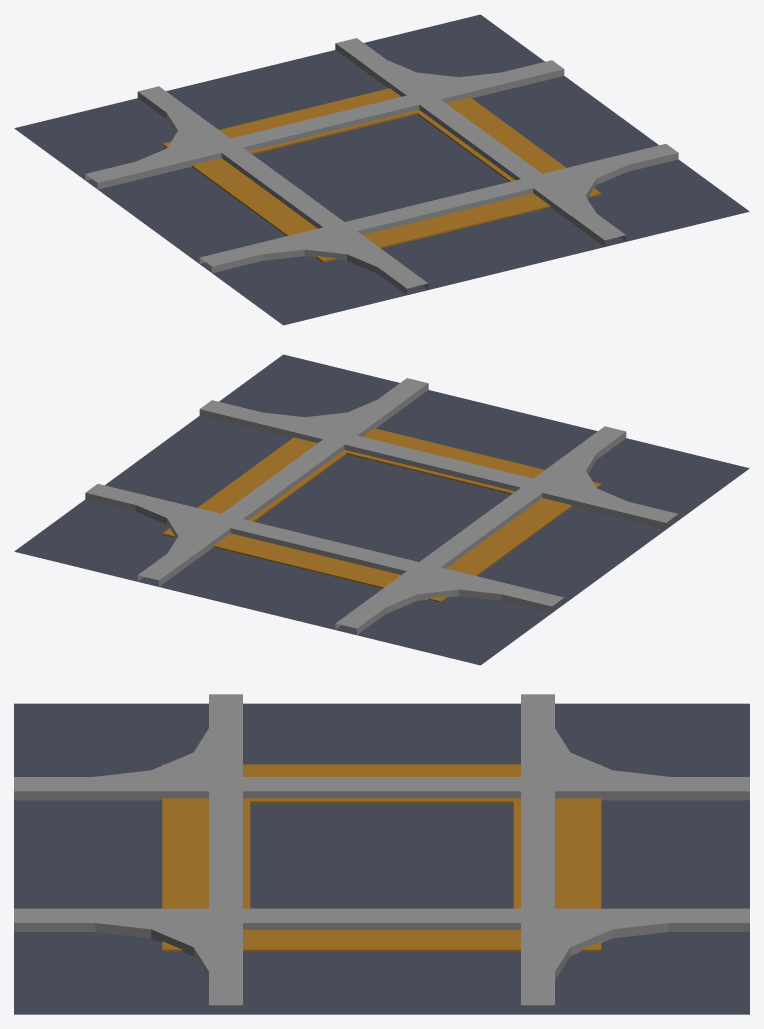
The model's file is Map-Rail-cross.fbx.
3 views of the same model, one above another, from view 1: azimuth 30°, elevation 25°; view 2: azimuth 150°, elevation 25°; view 3: azimuth 270°, elevation 25° (orthographic). The views are drawn at different scales.
Parts seen in each view (by area): view 1: Map-Rail-cross; view 2: Map-Rail-cross; view 3: Map-Rail-cross.
Boxes of the visible parts, x1,y1,x2,y2 form: Map-Rail-cross: (14, 14, 749, 325); Map-Rail-cross: (14, 354, 749, 665); Map-Rail-cross: (14, 694, 749, 1014).
Size of the model in its own units: 1.2 by 0.0218 by 1.2.
